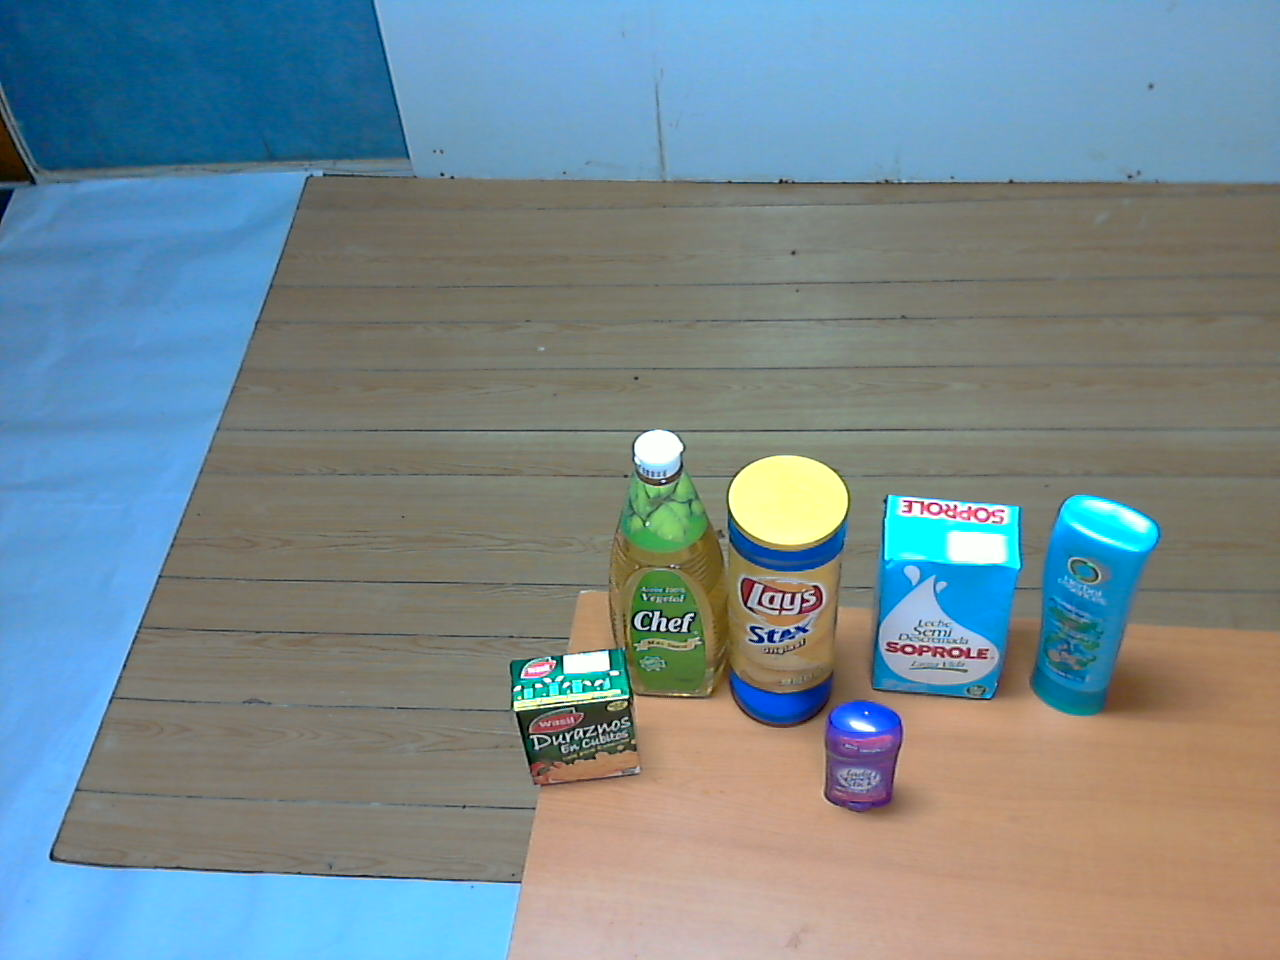aceite: (595, 422, 741, 710)
balsamo: (1027, 488, 1169, 726)
desodorante: (810, 697, 910, 822)
durazno: (505, 638, 651, 798)
leche: (866, 482, 1026, 716)
papas: (719, 439, 857, 739)
